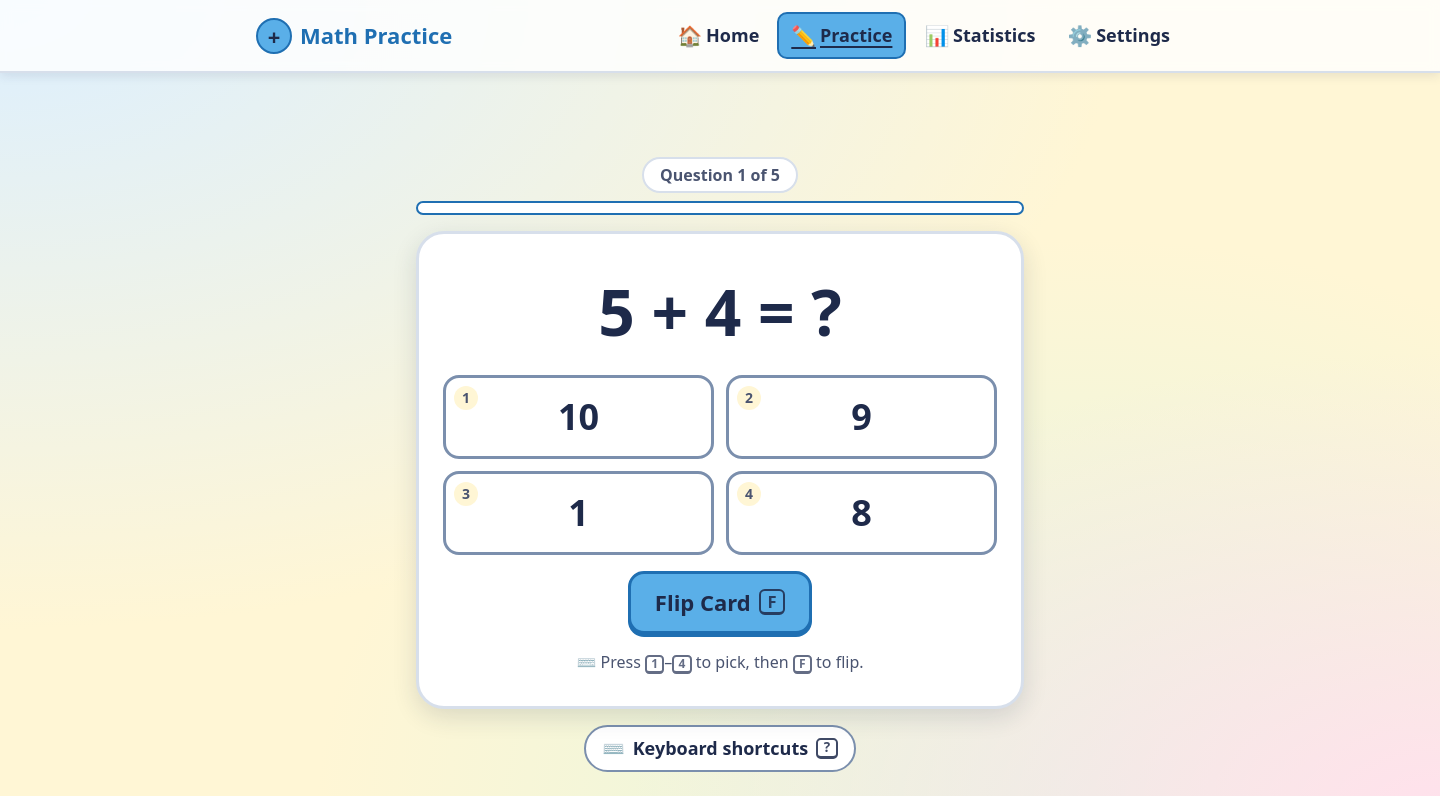
leaving a session › asks first, and "Keep practicing" stays on the session
Type keys "1"
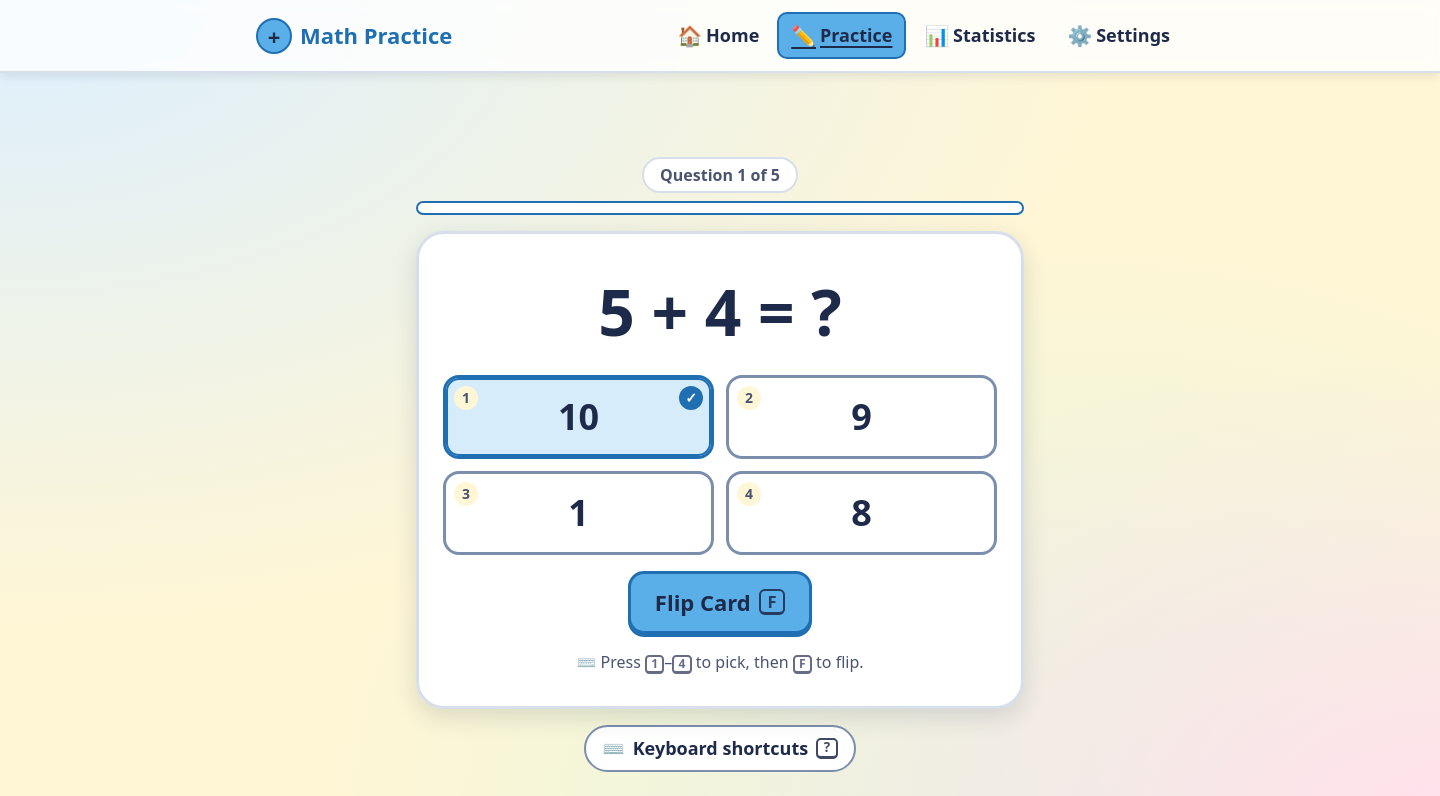
Type keys "f"
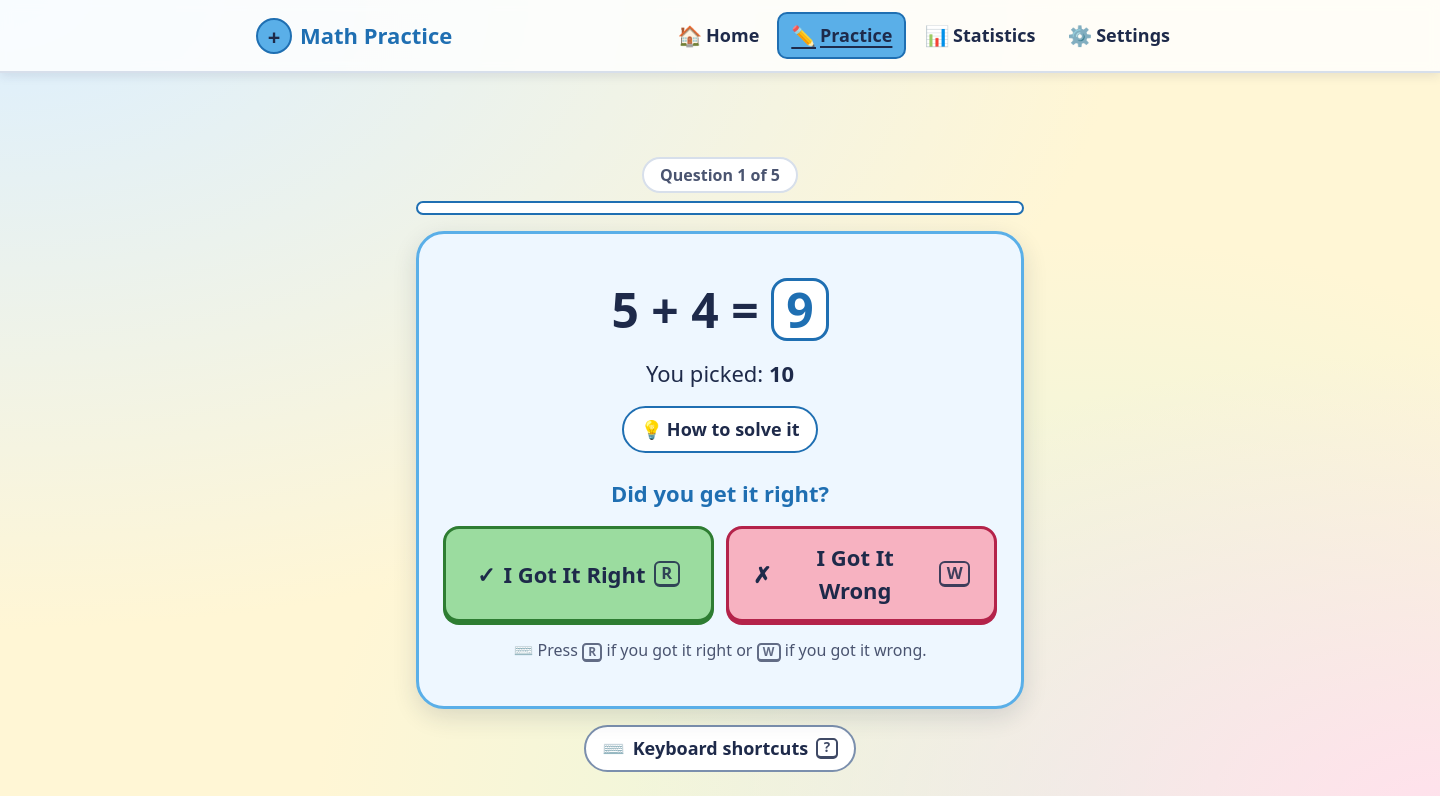
Type keys "r"
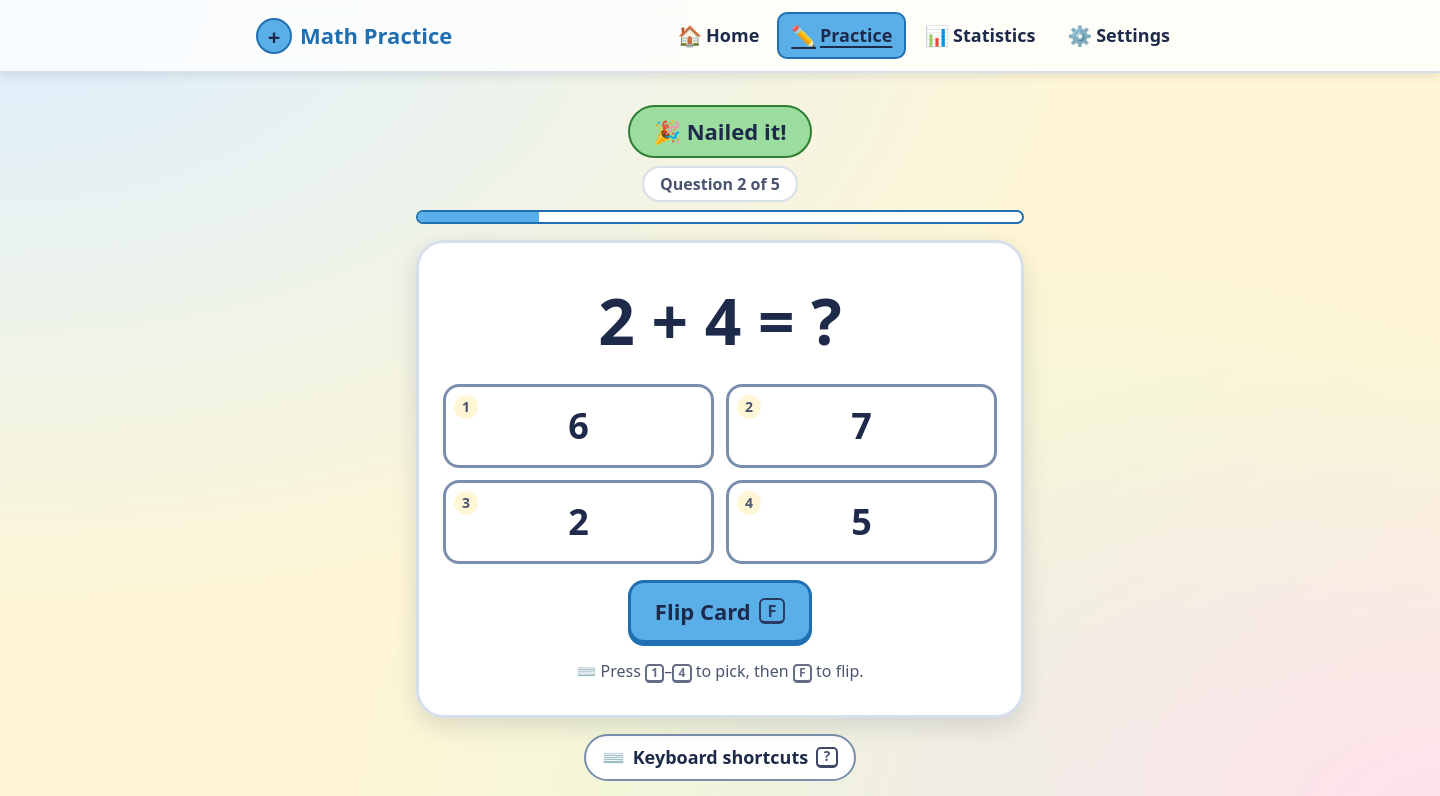
Click the link "📊 Statistics": (980, 35) [924, 22, 1035, 49]
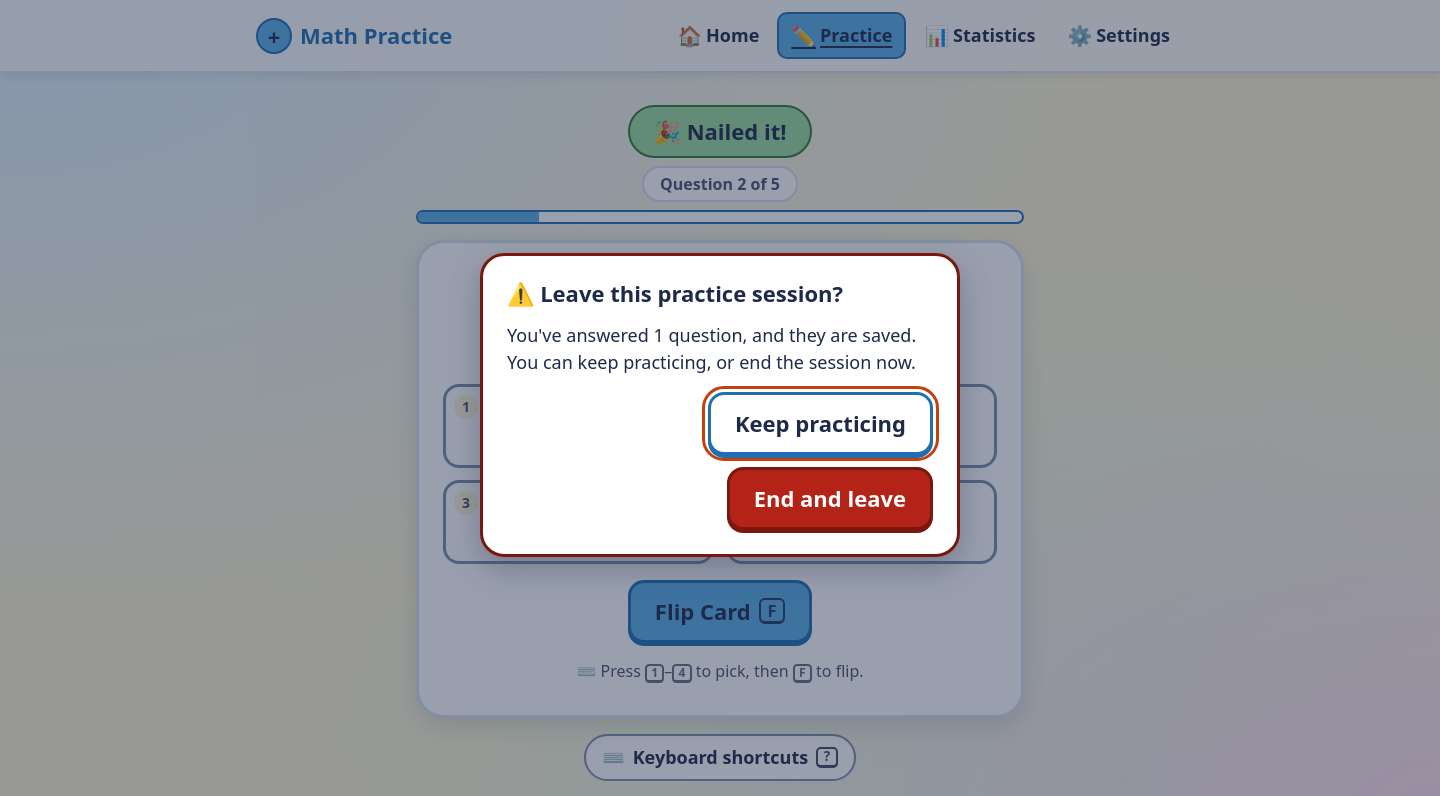
expect the dialog "Leave this practice session" shows "You've answered 1 question": met, box [480, 253, 960, 557]
Click the button "Keep practicing": (820, 424) [708, 392, 933, 455]
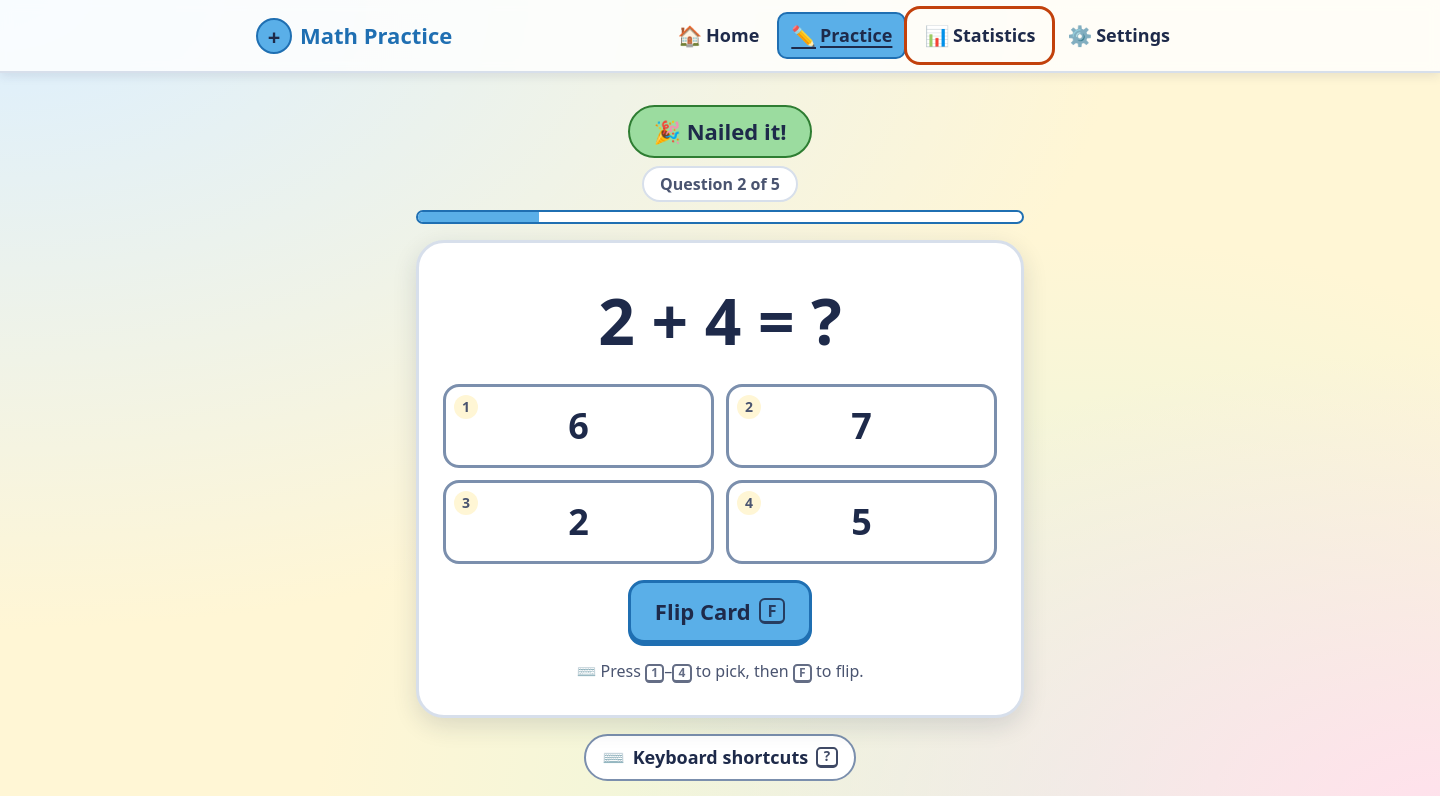
expect the text "Question 2 of 5" is shown: met, box [642, 166, 798, 202]
expect the dialog is gone: met
